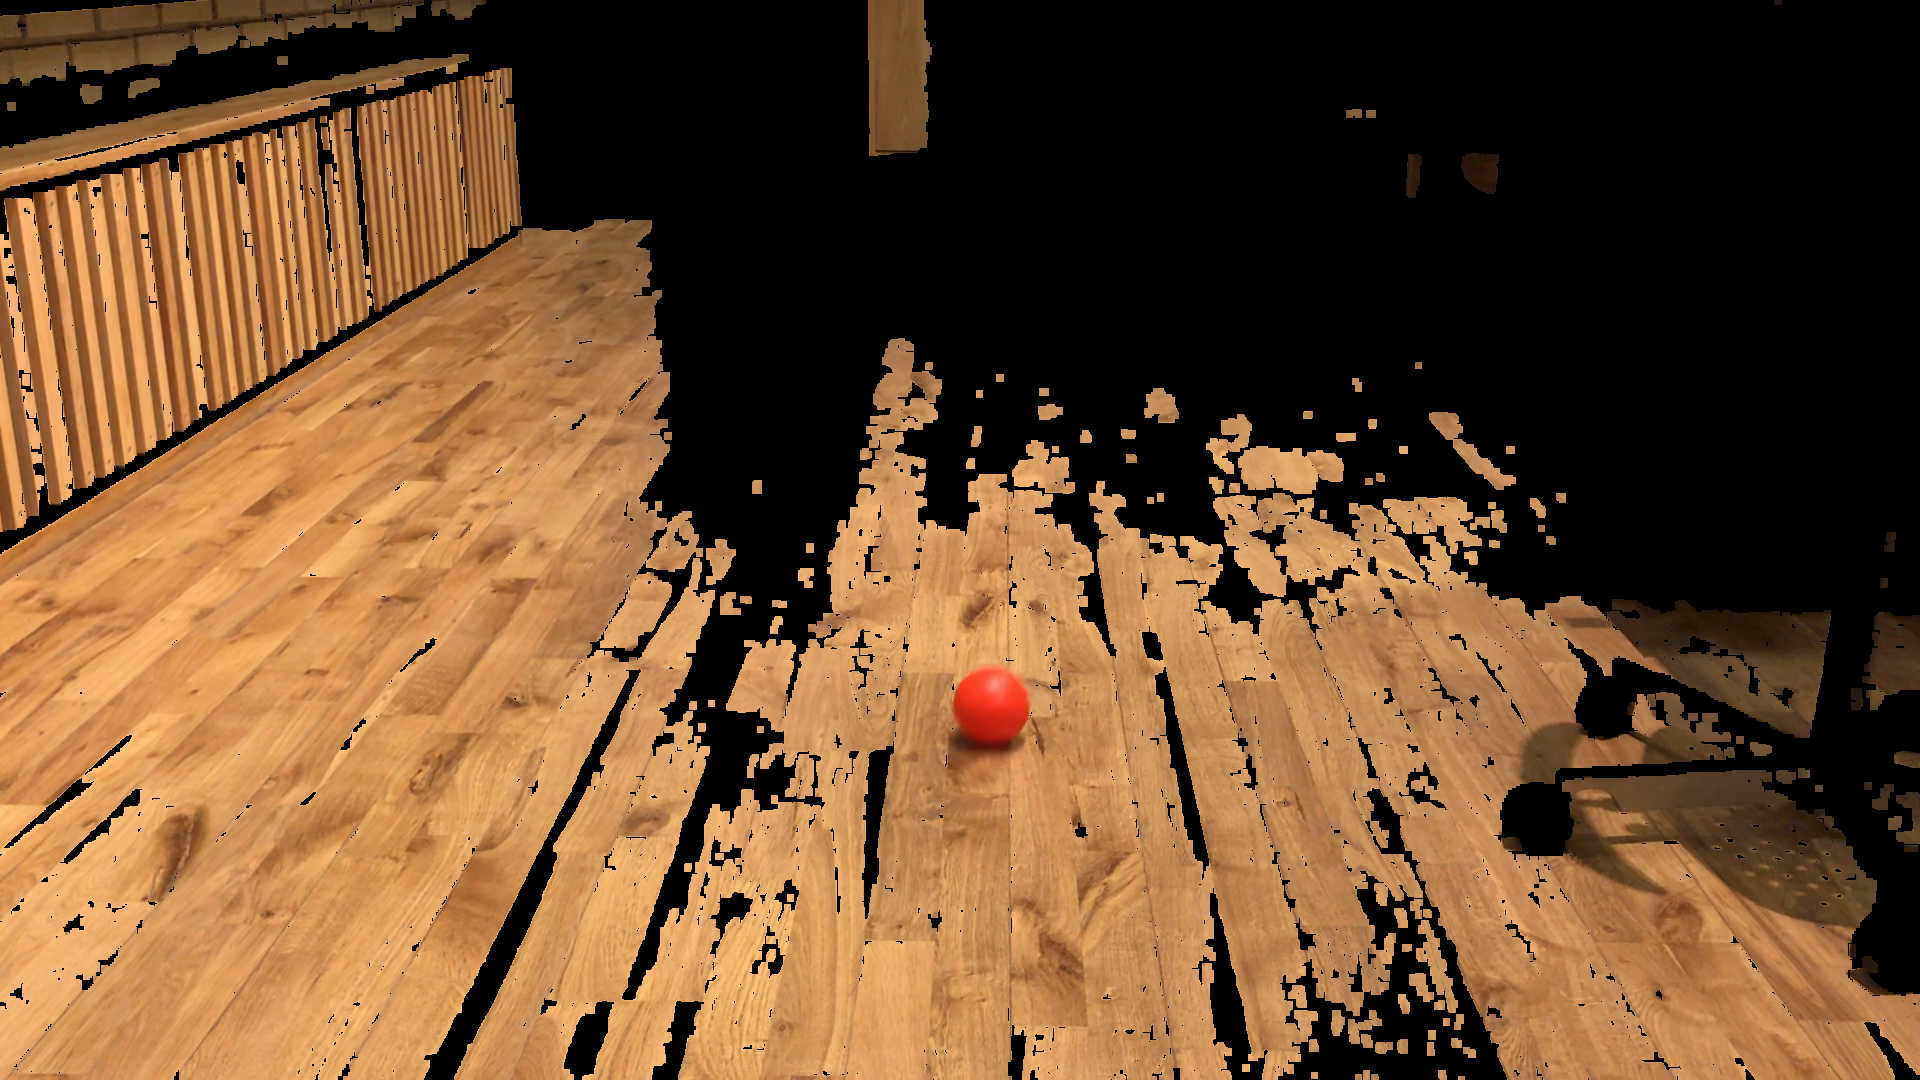Ball: (945, 669, 1038, 750)
